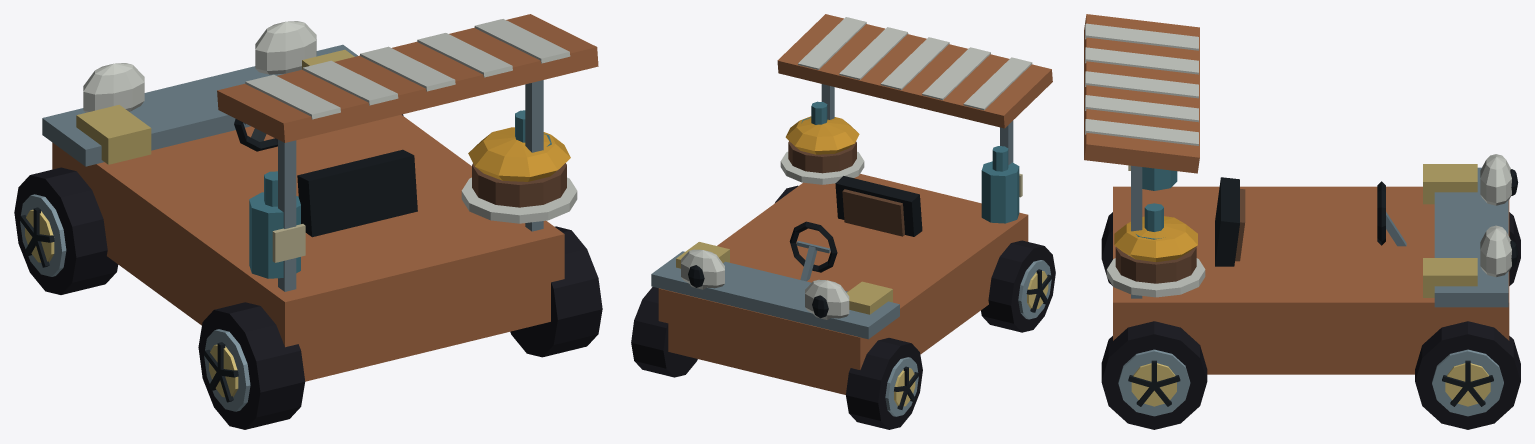
File: kart.glb
The picture shows the model from 3 angles, left to right: view 1: azimuth 30°, elevation 25°; view 2: azimuth 150°, elevation 25°; view 3: azimuth 270°, elevation 25°; orthographic projection. The views are drawn at different scales.
Visible parts, largest first — view 1: identity-food-cart-food-cart-counter-and-awning, wheel-rear-left, wheel-front-left, identity-food-cart-motif-food, identity-food-cart-driver-cockpit, wheel-rear-right, identity-food-cart-motif-eyes, identity-food-cart-motif-bottles; view 2: identity-food-cart-food-cart-counter-and-awning, wheel-front-left, identity-food-cart-driver-cockpit, wheel-rear-left, identity-food-cart-motif-food, identity-food-cart-motif-bottles, identity-food-cart-motif-eyes, wheel-front-right; view 3: identity-food-cart-food-cart-counter-and-awning, wheel-rear-right, wheel-front-right, identity-food-cart-motif-food, identity-food-cart-driver-cockpit, identity-food-cart-motif-eyes, identity-food-cart-motif-bottles, wheel-rear-left, wheel-front-left.
Boxes of the visible parts, box(x1,y1,x2,y2) form: identity-food-cart-food-cart-counter-and-awning: box(42, 14, 598, 381); wheel-rear-left: box(198, 302, 305, 429); wheel-front-left: box(14, 167, 118, 294); identity-food-cart-motif-food: box(461, 127, 577, 223); identity-food-cart-driver-cockpit: box(234, 119, 417, 237); wheel-rear-right: box(510, 226, 602, 357); identity-food-cart-motif-eyes: box(83, 21, 316, 112); identity-food-cart-motif-bottles: box(249, 110, 551, 278); identity-food-cart-food-cart-counter-and-awning: box(651, 14, 1052, 394); wheel-front-left: box(846, 338, 922, 429); identity-food-cart-driver-cockpit: box(789, 176, 922, 281); wheel-rear-left: box(981, 240, 1055, 332); identity-food-cart-motif-food: box(780, 116, 864, 184); identity-food-cart-motif-bottles: box(801, 101, 1022, 223); identity-food-cart-motif-eyes: box(681, 249, 849, 319); wheel-front-right: box(631, 287, 697, 377); identity-food-cart-food-cart-counter-and-awning: box(1084, 14, 1509, 374); wheel-rear-right: box(1101, 321, 1207, 429); wheel-front-right: box(1415, 321, 1520, 429); identity-food-cart-motif-food: box(1106, 216, 1205, 297); identity-food-cart-driver-cockpit: box(1215, 177, 1406, 266); identity-food-cart-motif-eyes: box(1480, 154, 1518, 277); identity-food-cart-motif-bottles: box(1128, 165, 1177, 255); wheel-rear-left: box(1101, 212, 1112, 285); wheel-front-left: box(1509, 212, 1520, 285).
Size of the model in its own units: 2.03 by 1.76 by 2.48.
